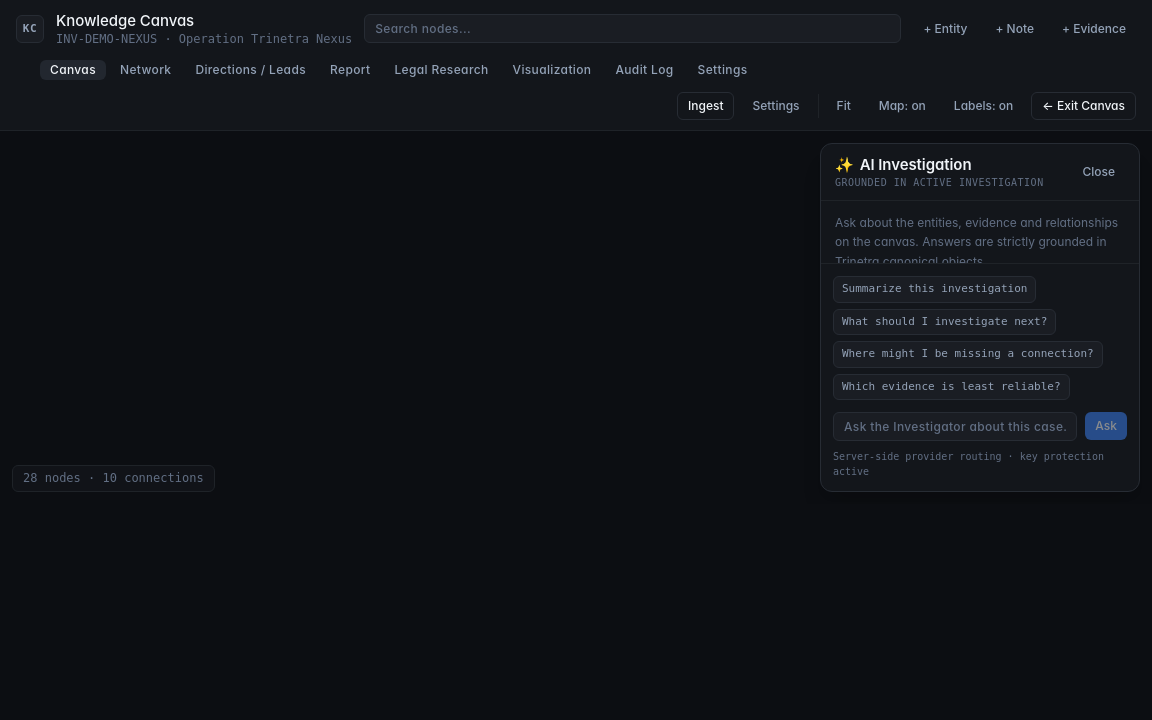
Scenario: CanvasWorkspace › ingest opens the import modal from the toolbar
Click the button with test id "canvas-import" at (706, 106), box x1=677 y1=92 x2=734 y2=120
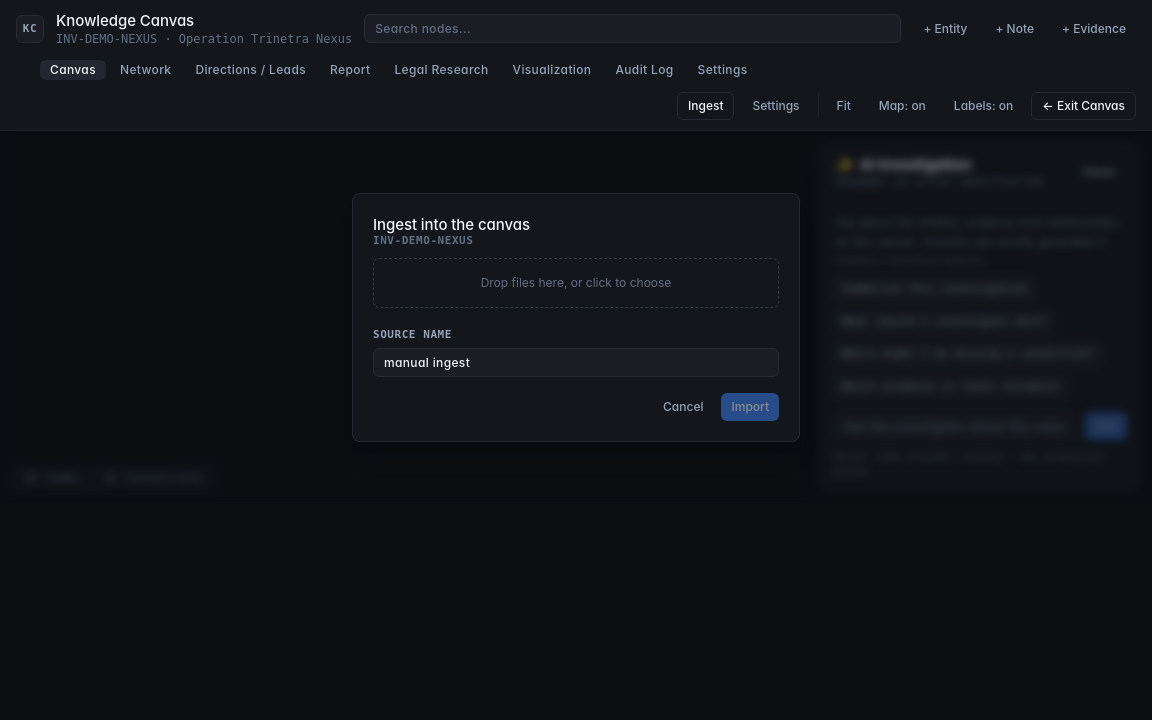
Result: the element with test id "canvas-import-modal" is shown at x1=0 y1=131 x2=1151 y2=504
